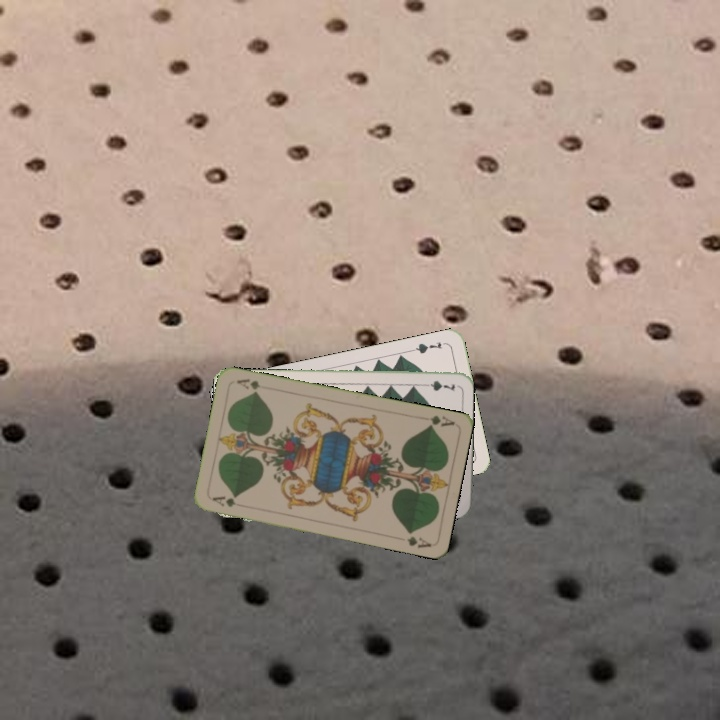G7: (408, 338, 449, 356), (417, 377, 457, 393)
GA: (208, 492, 248, 510), (423, 411, 457, 430)
